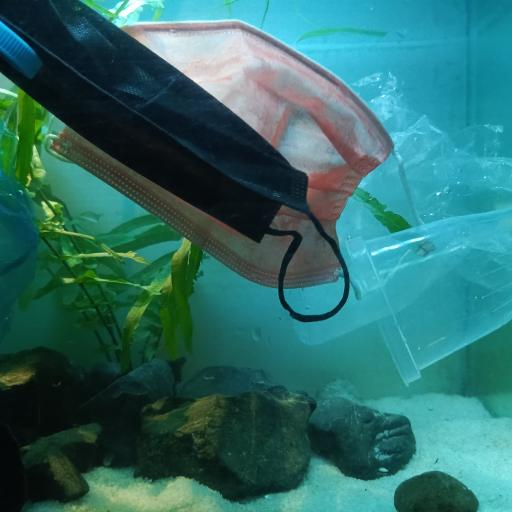mask: (0, 0, 350, 322), (50, 22, 395, 287)
plastic_bag: (298, 71, 512, 343)
plastic_cup: (344, 208, 512, 383)
